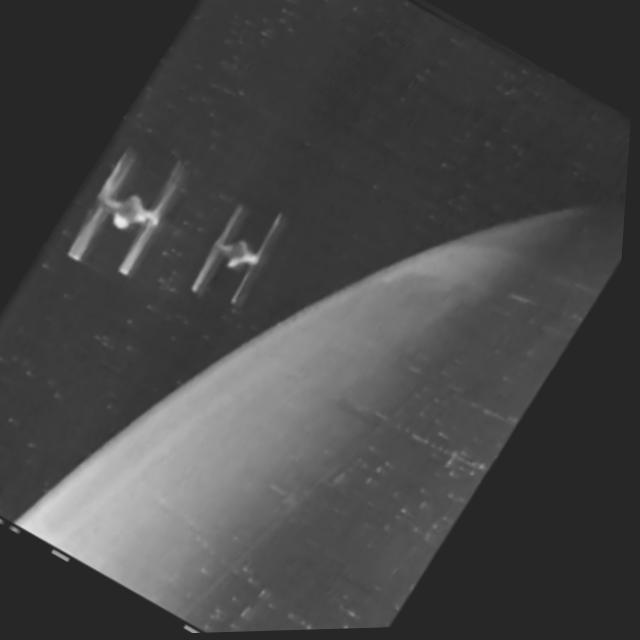death-stars: (26, 201, 629, 634)
